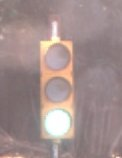Green: (31, 35, 85, 148)
